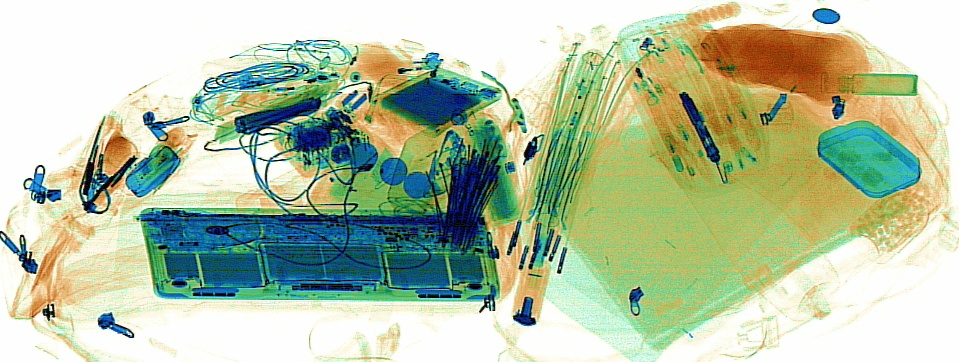lighter: (358, 51, 441, 79)
